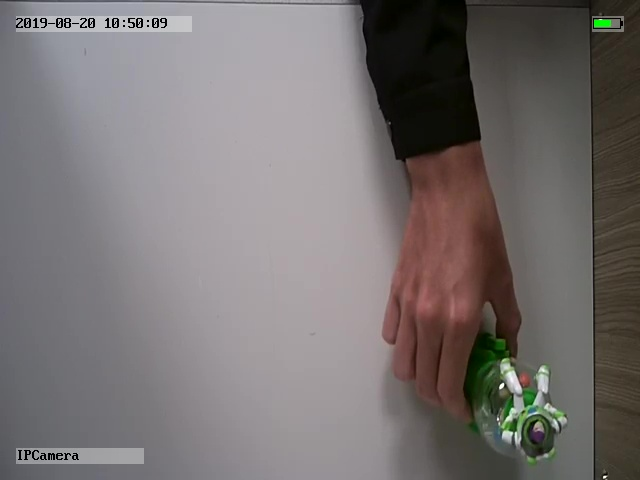buzz: (463, 337, 570, 468)
